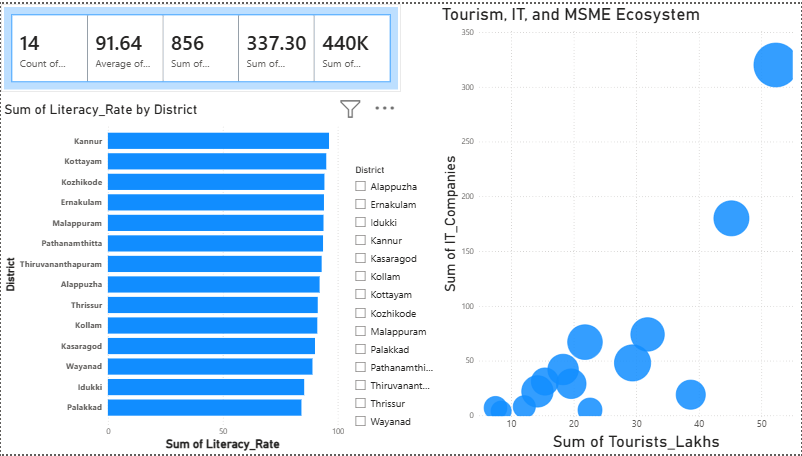

This screenshot's page, from the dashboard's own definition file:
{"tool":"powerbi","page":{"name":"Page 1","canvas":[1280,720],"ordinal":0},"visuals":[{"type":"clusteredBarChart","fields":{"Category":["kerala_dashboard_dataset.District"],"Y":["Sum(kerala_dashboard_dataset.Literacy_Rate)"]},"box":[0,156,554,564],"z":0},{"type":"scatterChart","title":"Tourism, IT, and MSME Ecosystem","fields":{"X":["Sum(kerala_dashboard_dataset.Tourists_Lakhs)"],"Y":["Sum(kerala_dashboard_dataset.IT_Companies)"],"Size":["Sum(kerala_dashboard_dataset.MSME_Count)"],"Category":["kerala_dashboard_dataset.District"]},"box":[700,0,580,720],"z":1},{"type":"cardVisual","fields":{"Data":["Count(kerala_dashboard_dataset.District)","Avg(kerala_dashboard_dataset.Literacy_Rate)","Sum(kerala_dashboard_dataset.IT_Companies)","Sum(kerala_dashboard_dataset.Tourists_Lakhs)","Sum(kerala_dashboard_dataset.MSME_Count)"]},"box":[0,0,640,142],"z":2},{"type":"slicer","fields":{"Values":["kerala_dashboard_dataset.District"]},"box":[554,252,146,468],"z":3}]}

Visuals, with their boxes in screenshot pixels (x1, y1, x2, y2), scaled from the page's 1280x720 canvas onto the 802x456 screenshot:
clusteredBarChart - kerala_dashboard_dataset.District x Sum(kerala_dashboard_dataset.Literacy_Rate): [0, 99, 347, 455]
"Tourism, IT, and MSME Ecosystem" scatterChart: [439, 0, 801, 455]
cardVisual - Count(kerala_dashboard_dataset.District) x Avg(kerala_dashboard_dataset.Literacy_Rate): [0, 0, 401, 90]
slicer - kerala_dashboard_dataset.District: [347, 160, 439, 455]
